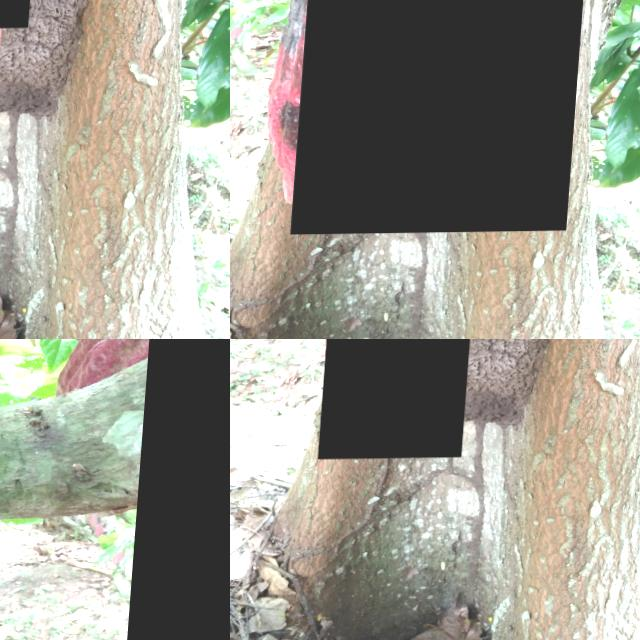Fitoftora: (324, 339, 481, 459)
Sana: (297, 0, 596, 235), (121, 339, 230, 640)
